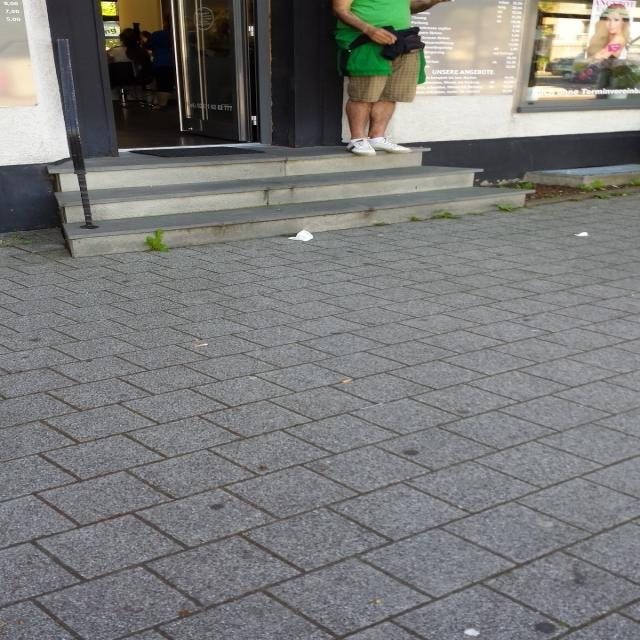AVOID: (47, 157, 531, 257)
